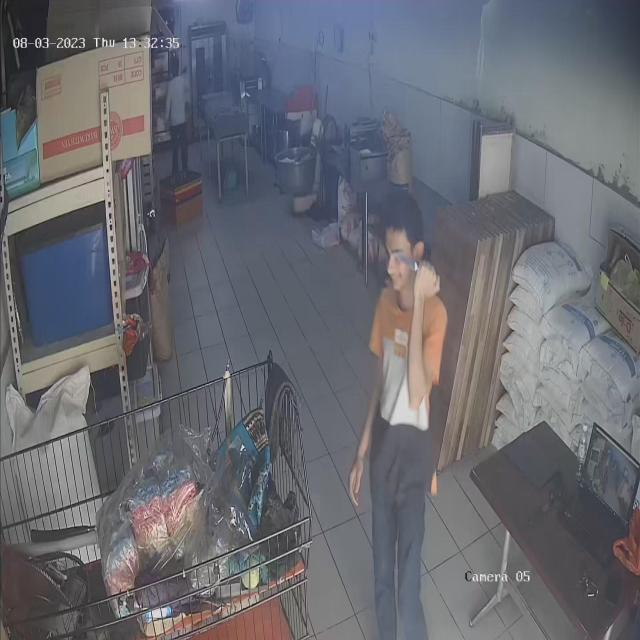Knife: (392, 240, 453, 288)
